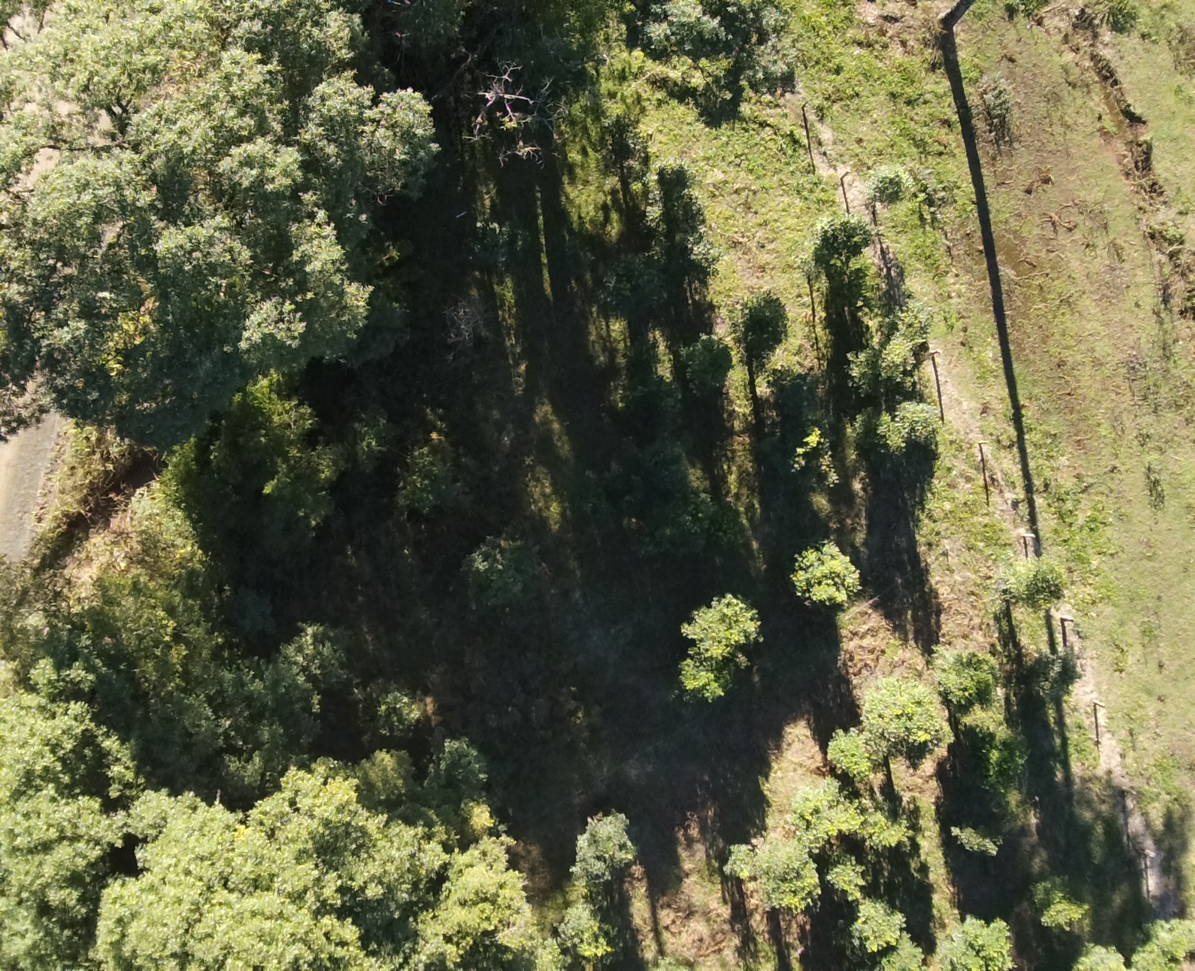erva: (678, 587, 793, 676), (855, 674, 947, 762), (727, 827, 817, 909), (659, 651, 759, 723), (568, 806, 648, 890), (869, 399, 957, 471), (937, 632, 1003, 716), (809, 717, 884, 789), (713, 294, 792, 361), (786, 536, 860, 607), (933, 913, 1017, 970), (1123, 902, 1190, 970), (1000, 553, 1065, 619), (842, 893, 911, 954), (816, 223, 880, 287), (801, 786, 869, 846), (592, 109, 648, 178), (673, 333, 735, 392), (1031, 876, 1090, 937), (655, 169, 707, 235), (862, 801, 922, 853), (872, 922, 928, 970), (954, 812, 1008, 860), (861, 162, 919, 205), (823, 849, 869, 900), (1073, 938, 1129, 970)
